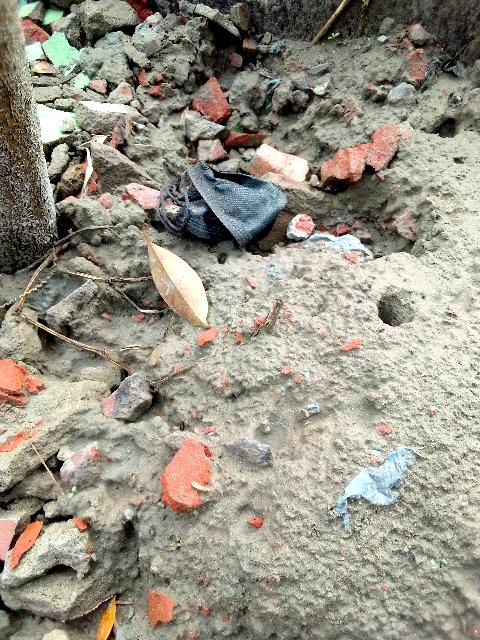mask: (157, 160, 302, 263)
